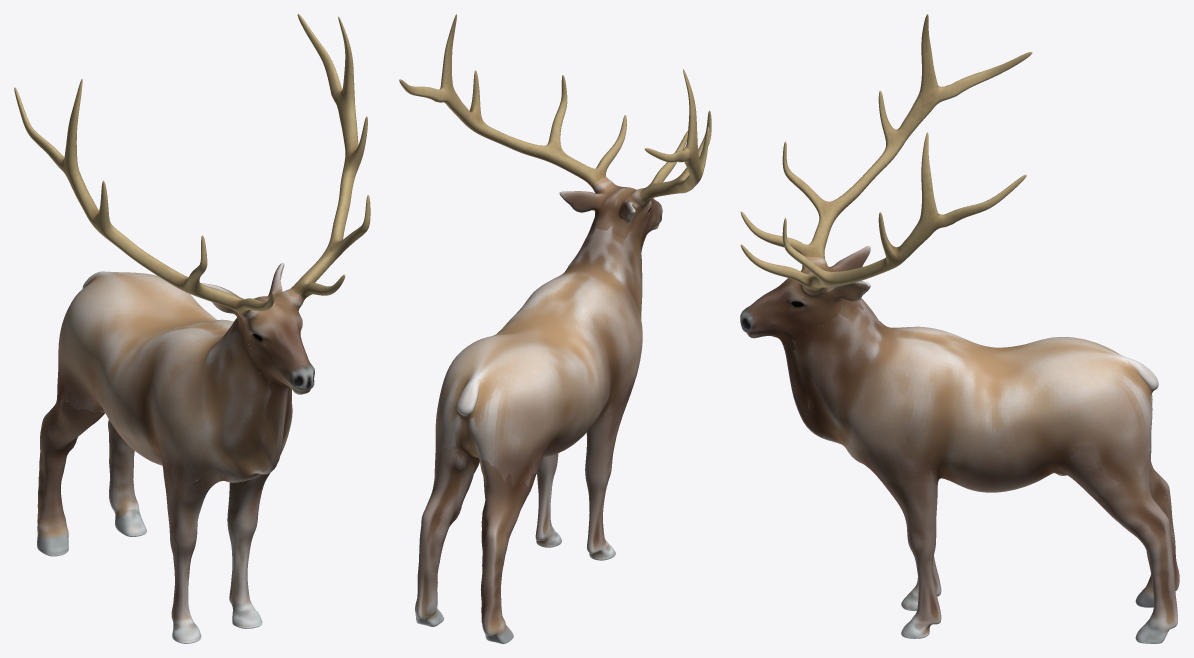
The model's file is Giant Elk.glb.
3 views of the same model, side by side, from view 1: azimuth 30°, elevation 25°; view 2: azimuth 150°, elevation 25°; view 3: azimuth 270°, elevation 25° (orthographic). The views are drawn at different scales.
Parts seen in each view (by area): view 1: Elk v2 v4 Original.001; view 2: Elk v2 v4 Original.001; view 3: Elk v2 v4 Original.001.
Boxes of the visible parts, x1,y1,x2,y2 form: Elk v2 v4 Original.001: [14, 14, 370, 643]; Elk v2 v4 Original.001: [399, 14, 711, 643]; Elk v2 v4 Original.001: [740, 14, 1179, 643].
Size of the model in its own units: 1.39 by 2.57 by 1.87.
3 materials, 3 textured.
